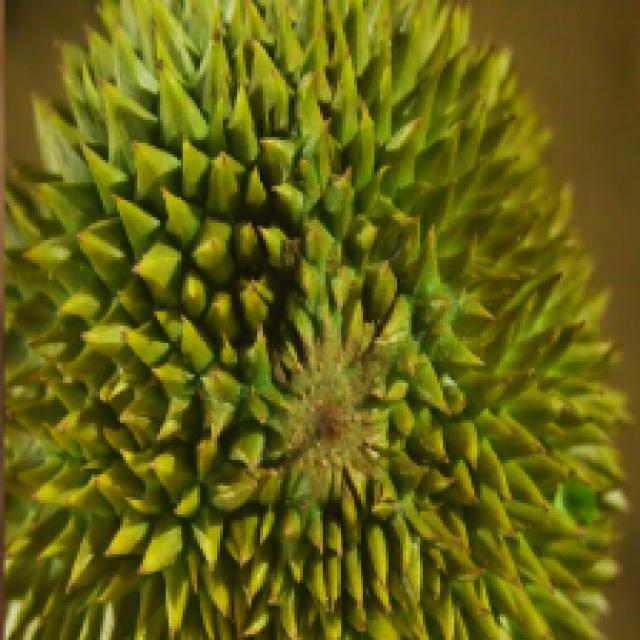d24: (42, 43, 564, 624)
